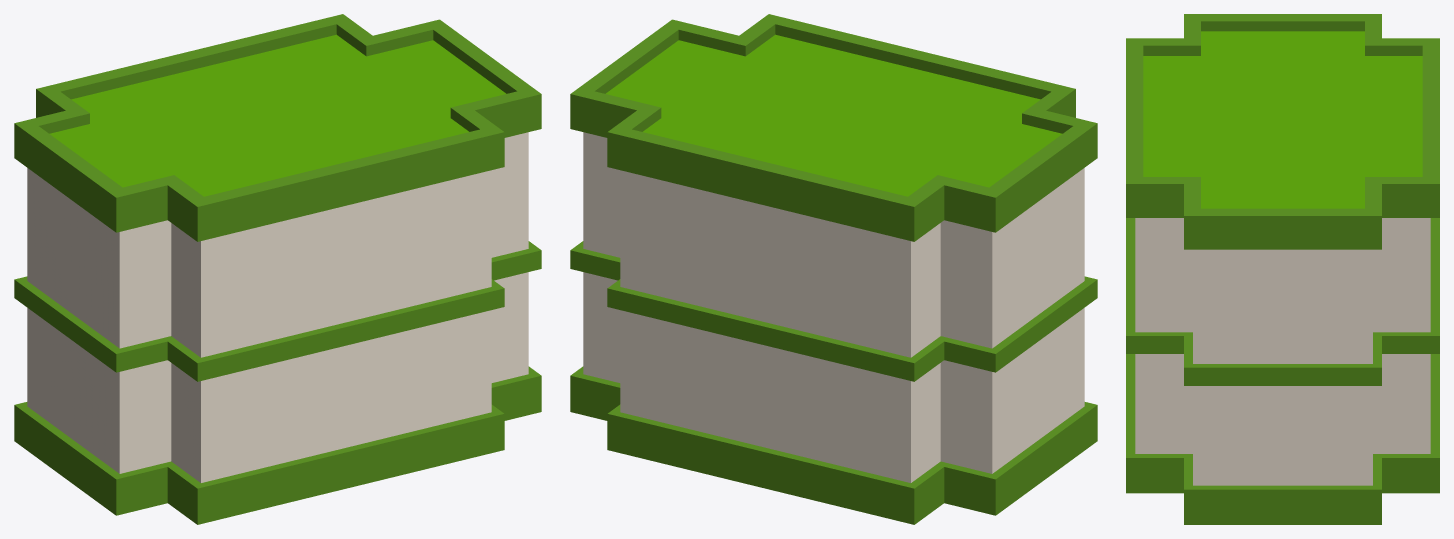
Rendered from Map-House-O-Lv2-G.fbx.
3 views of the same model, side by side, from view 1: azimuth 30°, elevation 25°; view 2: azimuth 150°, elevation 25°; view 3: azimuth 270°, elevation 25° (orthographic). The views are drawn at different scales.
Parts seen in each view (by area): view 1: Map-House-O-Lv2-G; view 2: Map-House-O-Lv2-G; view 3: Map-House-O-Lv2-G.
Part boxes in pixels (x1=…): Map-House-O-Lv2-G: x1=14, y1=14, x2=541, y2=524; Map-House-O-Lv2-G: x1=570, y1=14, x2=1097, y2=524; Map-House-O-Lv2-G: x1=1126, y1=14, x2=1439, y2=524.
Bounding box in the file's own units: 1.75 × 1.25 × 1.15.
